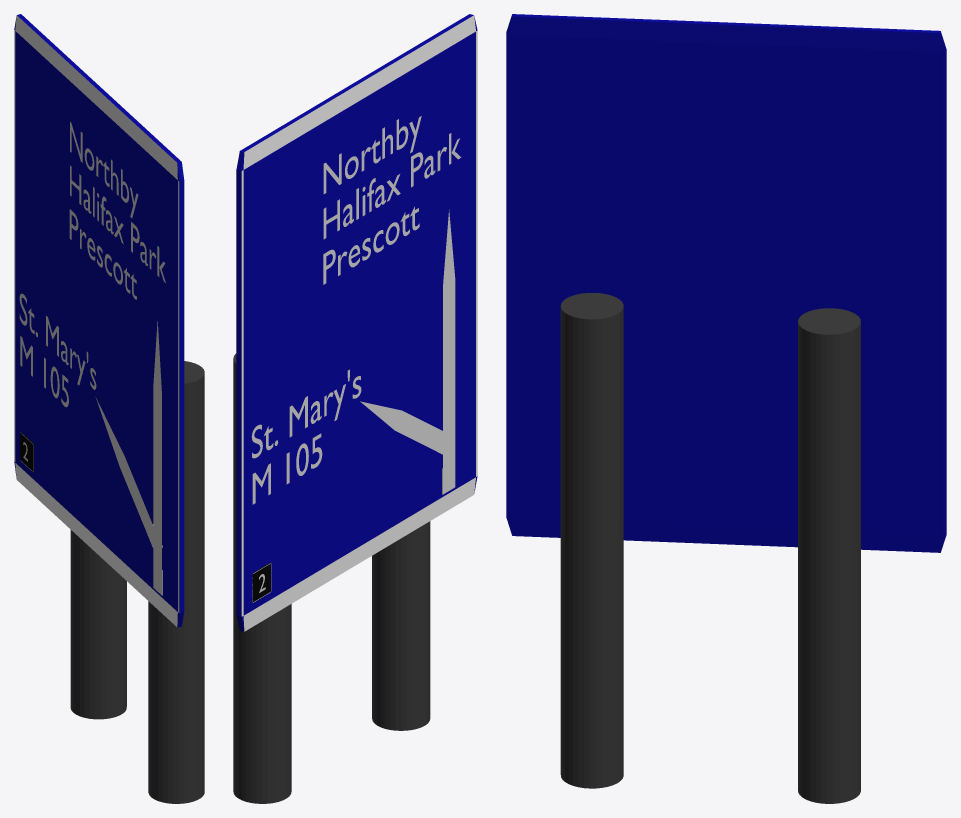
File: JCT2JunctionSign2.fbx
The picture shows the model from 3 angles, left to right: view 1: azimuth 30°, elevation 25°; view 2: azimuth 150°, elevation 25°; view 3: azimuth 270°, elevation 25°; orthographic projection. The views are drawn at different scales.
Parts seen in each view (by area): view 1: Sign, Sign.006, Sign.003, Sign.005, Sign.004, Sign.007; view 2: Sign, Sign.006, Sign.003, Sign.005, Sign.004, Sign.007; view 3: Sign.
Boxes of the visible parts, bbox=[...] form: Sign: bbox=[14, 14, 204, 803]; Sign.006: bbox=[69, 122, 165, 299]; Sign.003: bbox=[153, 321, 162, 595]; Sign.005: bbox=[19, 293, 96, 407]; Sign.004: bbox=[95, 397, 162, 556]; Sign.007: bbox=[20, 432, 33, 472]; Sign: bbox=[233, 14, 477, 803]; Sign.006: bbox=[323, 116, 460, 284]; Sign.003: bbox=[442, 209, 455, 494]; Sign.005: bbox=[251, 369, 361, 504]; Sign.004: bbox=[360, 401, 449, 454]; Sign.007: bbox=[252, 562, 271, 602]; Sign: bbox=[506, 14, 946, 803].
Bounding box in the file's own units: 115 × 824 × 443.
